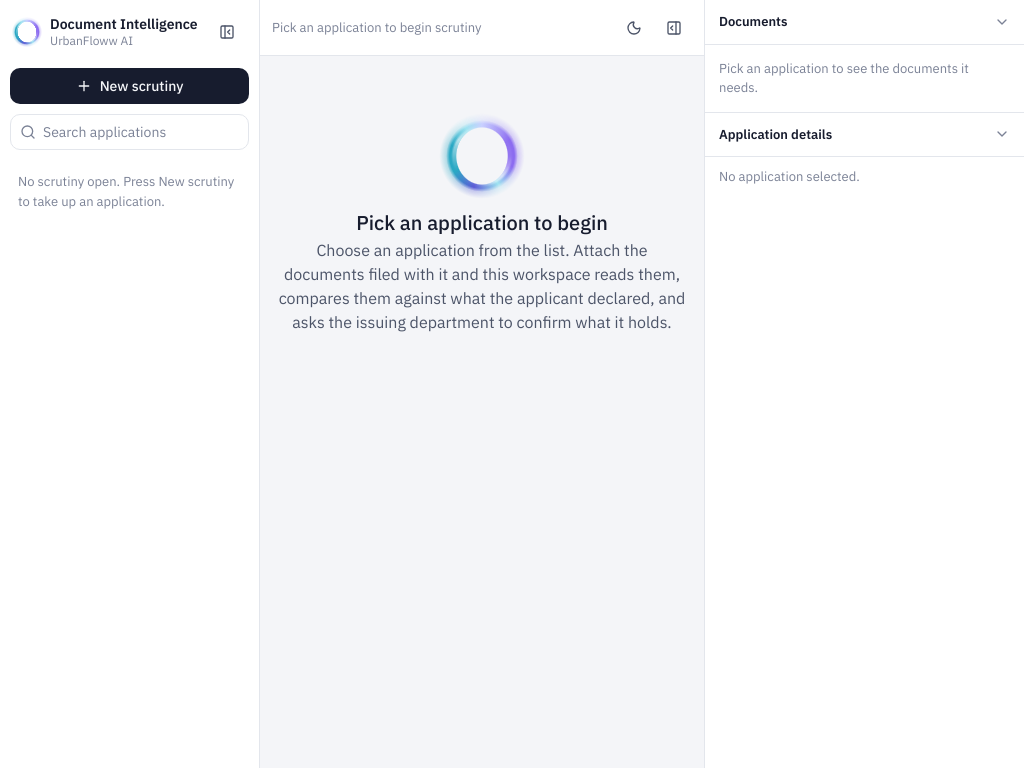
Scenario: the workspace shell › can hide and restore the application details
expect the button "New scrutiny" is shown: met, box [10,68,249,104]
expect the element "Application details" is shown: met, box [704,0,1023,767]
Click the button named "toggle the details panel" at x=674, y=28, box [656,10,692,46]
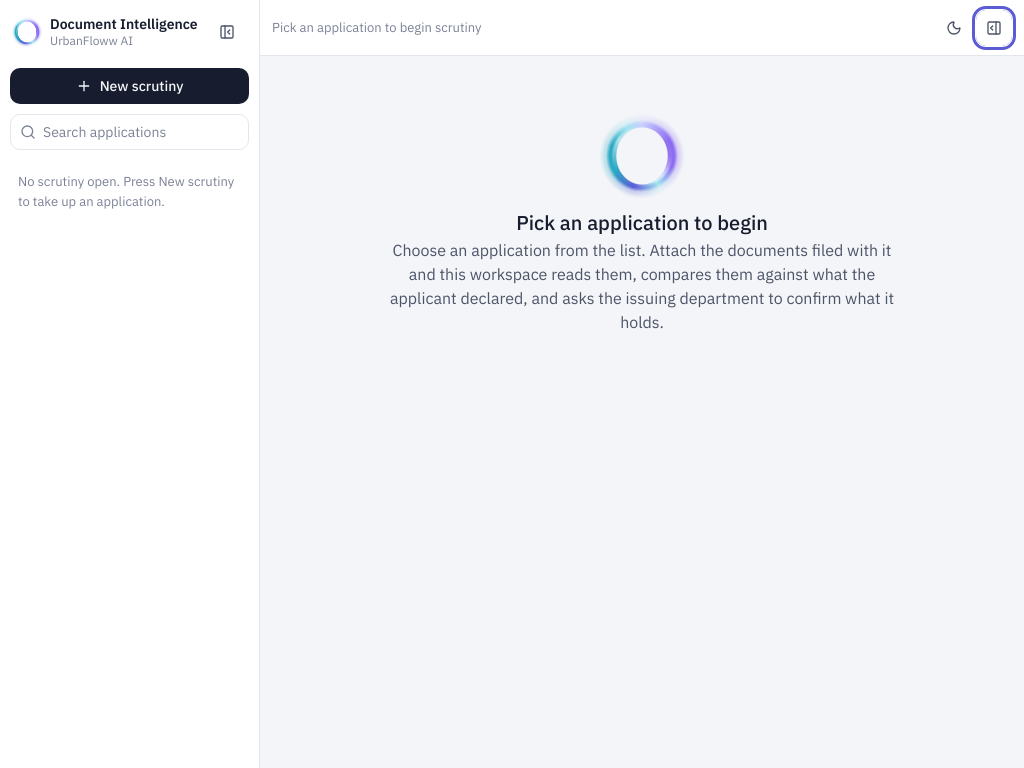
expect the button "Application details" is gone: met
